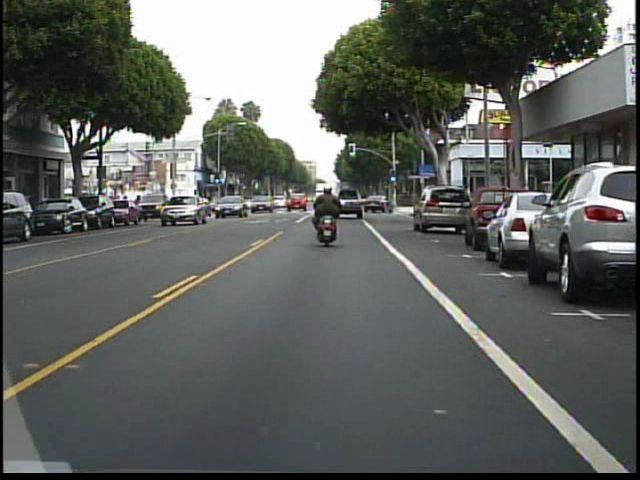person: (309, 180, 346, 248)
